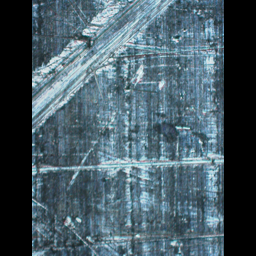d: (31, 0, 177, 134), (33, 137, 223, 178)
